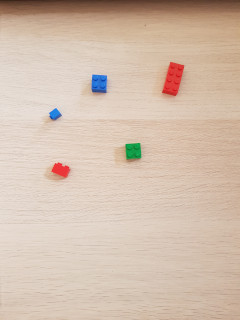1x1 blue: (49, 108, 61, 120)
1x2 red: (51, 162, 71, 178)
2x2 blue: (91, 74, 108, 93)
2x2 green: (124, 142, 142, 161)
2x4 red: (162, 61, 184, 96)
